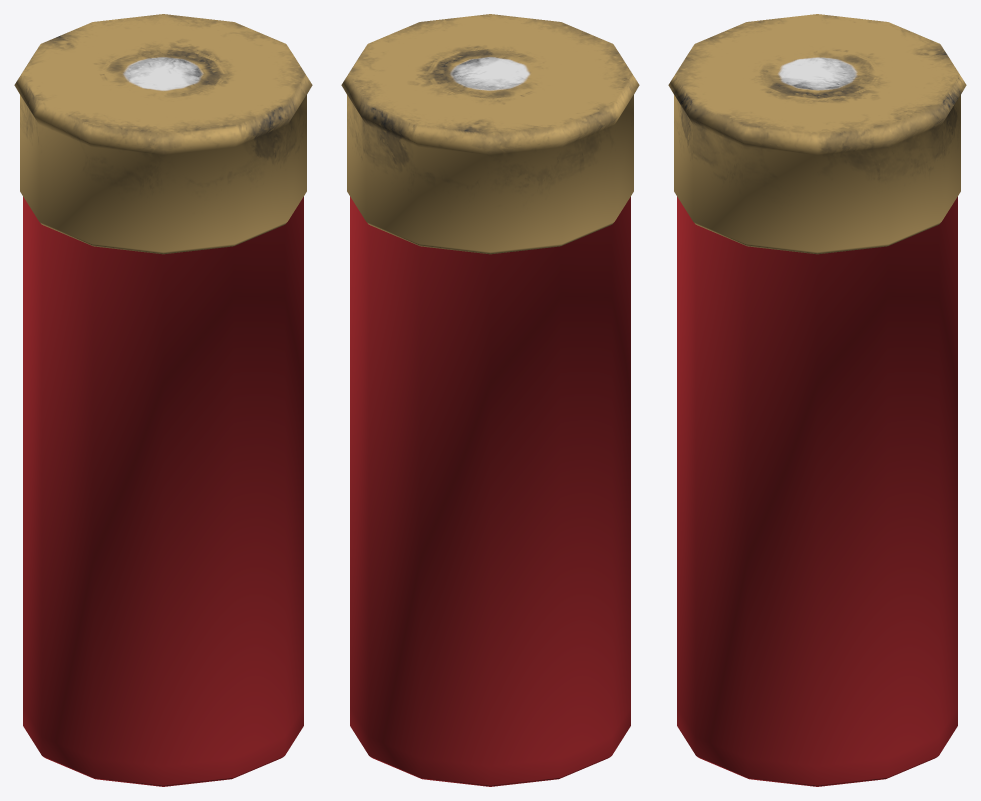
Rendered from shotgunshell.fbx.
The picture shows the model from 3 angles, left to right: view 1: azimuth 30°, elevation 25°; view 2: azimuth 150°, elevation 25°; view 3: azimuth 270°, elevation 25°; orthographic projection.
Parts seen in each view (by area): view 1: shell1; view 2: shell1; view 3: shell1.
Part boxes in pixels (box(x1,y1,x2,y2)): shell1: box(14, 14, 312, 786); shell1: box(341, 14, 639, 786); shell1: box(668, 14, 966, 786).
Bounding box in the file's own units: 28 × 28 × 67.88.
1 material, 1 textured.
